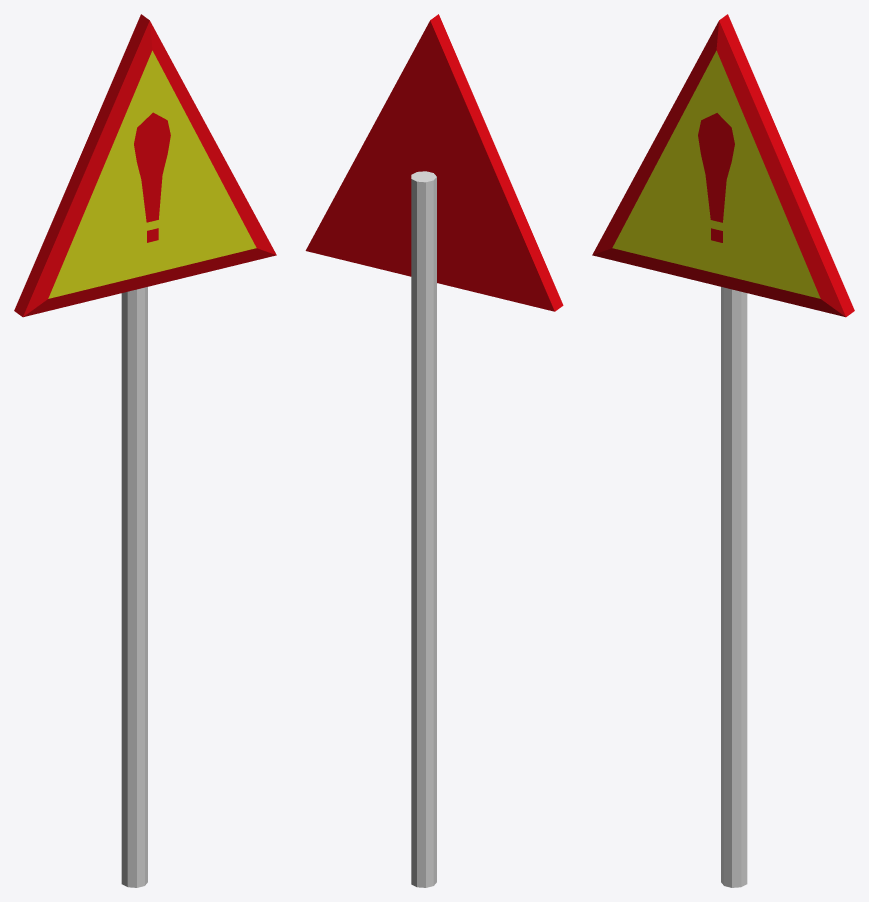
The model's file is DangerSign.fbx.
The picture shows the model from 3 angles, left to right: view 1: azimuth 30°, elevation 25°; view 2: azimuth 150°, elevation 25°; view 3: azimuth 330°, elevation 25°; orthographic projection.
Parts seen in each view (by area): view 1: Danger Sign; view 2: Danger Sign; view 3: Danger Sign.
Part boxes in pixels (<box>): Danger Sign: <box>14,14,276,887</box>; Danger Sign: <box>305,14,563,887</box>; Danger Sign: <box>592,14,854,887</box>.
Size of the model in its own units: 1.11 by 3.64 by 0.1877.
